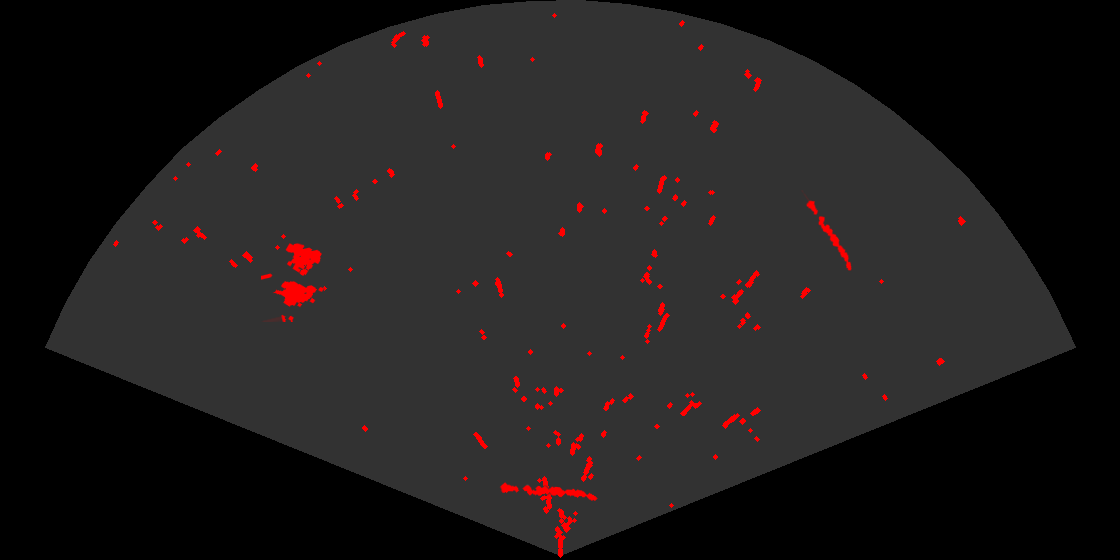cage: (261, 242, 325, 322)
chain: (800, 190, 853, 272), (499, 481, 599, 502)
